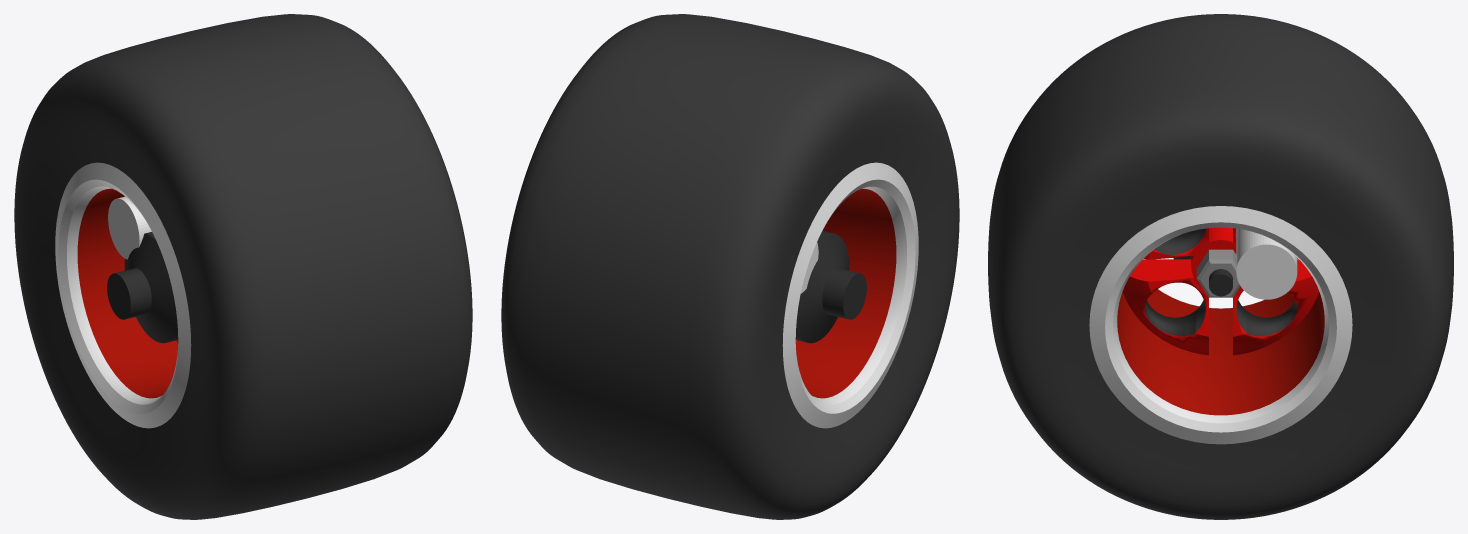
File: misan.glb
3 renders of one model, left to right at view 1: azimuth 30°, elevation 25°; view 2: azimuth 150°, elevation 25°; view 3: azimuth 270°, elevation 25°, orthographic. The views are drawn at different scales.
Parts seen in each view (by area): view 1: Bolts.1, Cylinder; view 2: Bolts.1; view 3: Bolts.1, Cylinder.
Boxes of the visible parts, x1=… form: Bolts.1: x1=14, y1=14, x2=472, y2=519; Cylinder: x1=108, y1=196, x2=151, y2=259; Bolts.1: x1=501, y1=14, x2=959, y2=519; Bolts.1: x1=988, y1=14, x2=1453, y2=519; Cylinder: x1=1236, y1=228, x2=1297, y2=299.
Bounding box in the file's own units: 2.09 × 3.46 × 3.46.
